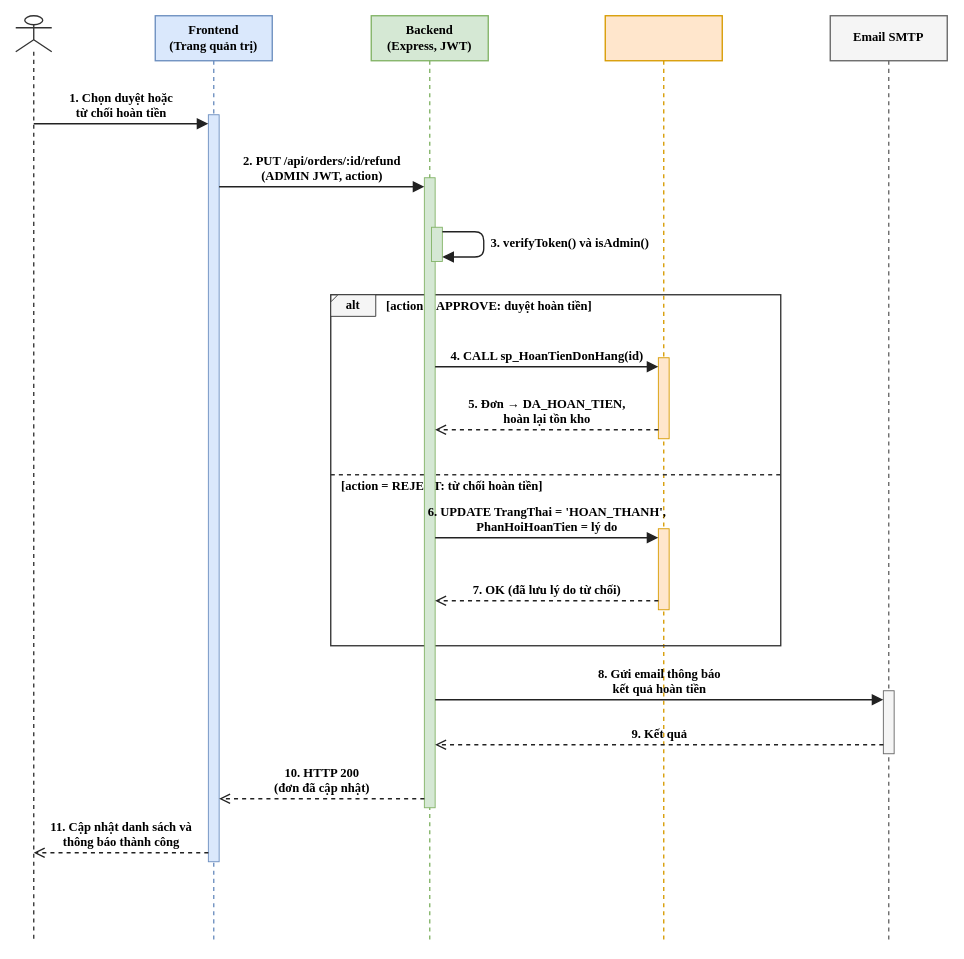
The diagram is 964 pixels wide and 959 high, and some of its shapes have lost their labels. The shapes that lost their labels are listed below. From the top down, each one's box as (x1, y1, x2, y2) in pixels, then its label:
(15, 15, 52, 943): Quản trị viên
(604, 15, 723, 943): CSDL MySQL
